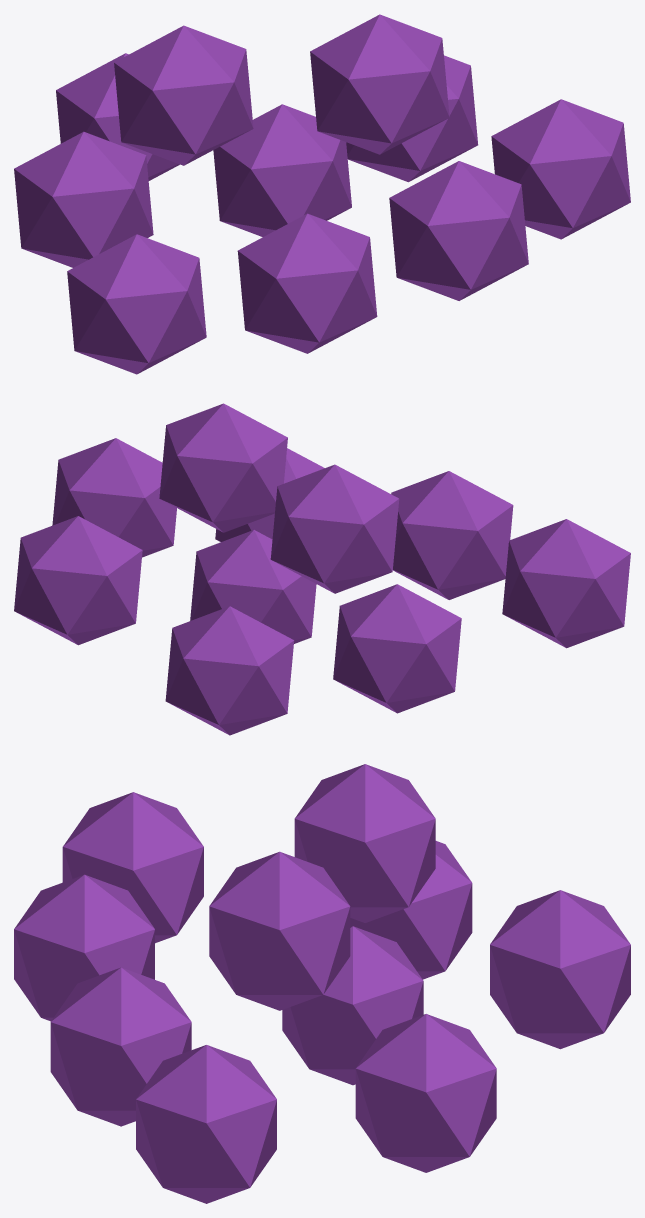
Rendered from FTF_Ingredient_Separated_Grapes.glb.
3 renders of one model, top to bottom at view 1: azimuth 30°, elevation 25°; view 2: azimuth 150°, elevation 25°; view 3: azimuth 270°, elevation 25°, orthographic. The views are drawn at different scales.
Parts seen in each view (by area): view 1: Grape_00; view 2: Grape_00; view 3: Grape_00.
Boxes of the visible parts, x1,y1,x2,y2 form: Grape_00: (14, 14, 630, 374); Grape_00: (14, 403, 630, 735); Grape_00: (14, 764, 630, 1203).
Size of the model in its own units: 0.6242 by 0.244 by 0.5057.
